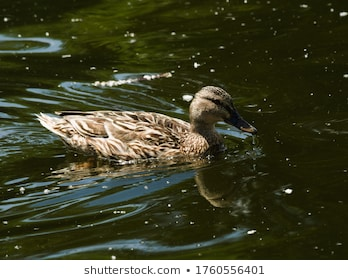duck: (24, 73, 267, 172)
